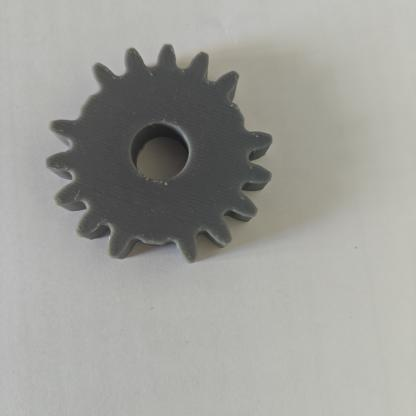defect: (44, 61, 126, 146), (218, 68, 289, 161), (108, 217, 202, 278)
gear: (21, 32, 305, 300)
